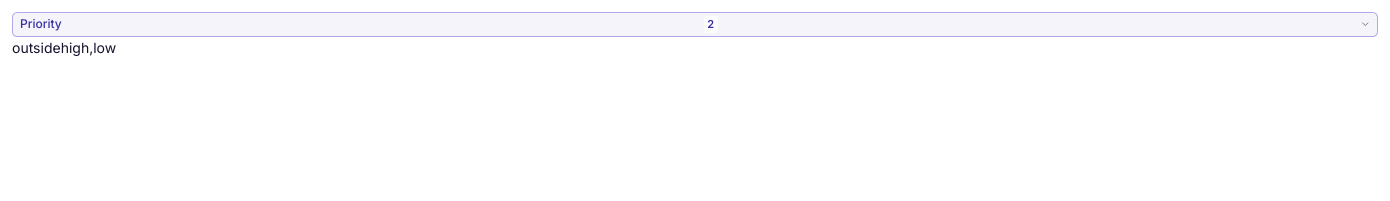
Test case: MultiSelect › clears all selections from the menu
What coordinates should you click on to do the following:
click the button "Priority 2"
I would click on:
 (41, 24)
Its box is [12,12,1378,36].
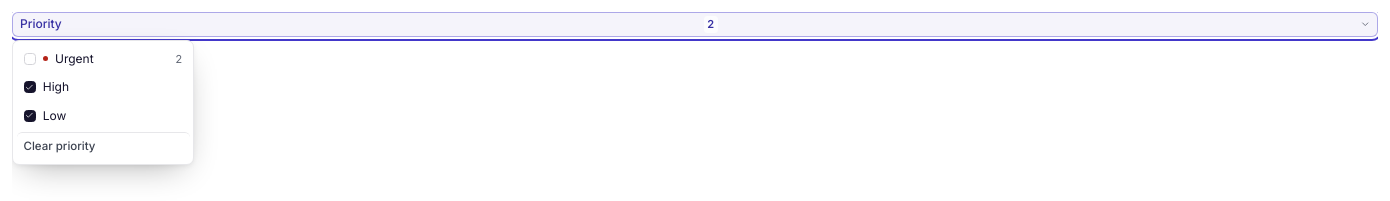
What coordinates should you click on to do the following:
click the button "Clear priority"
I would click on:
 (103, 146)
Its box is [16,132,190,161].
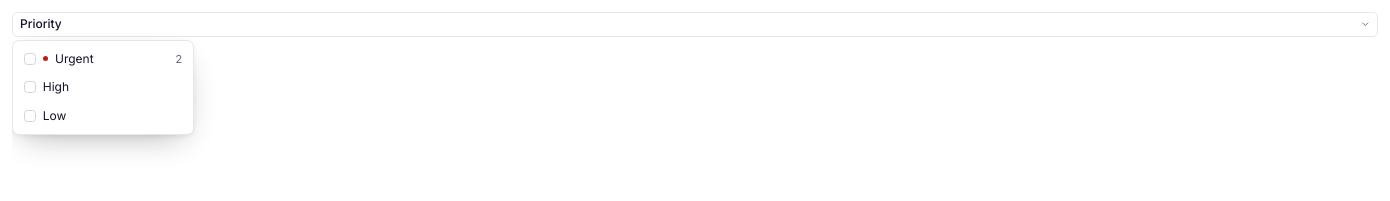
Now the button "Clear priority" is gone
